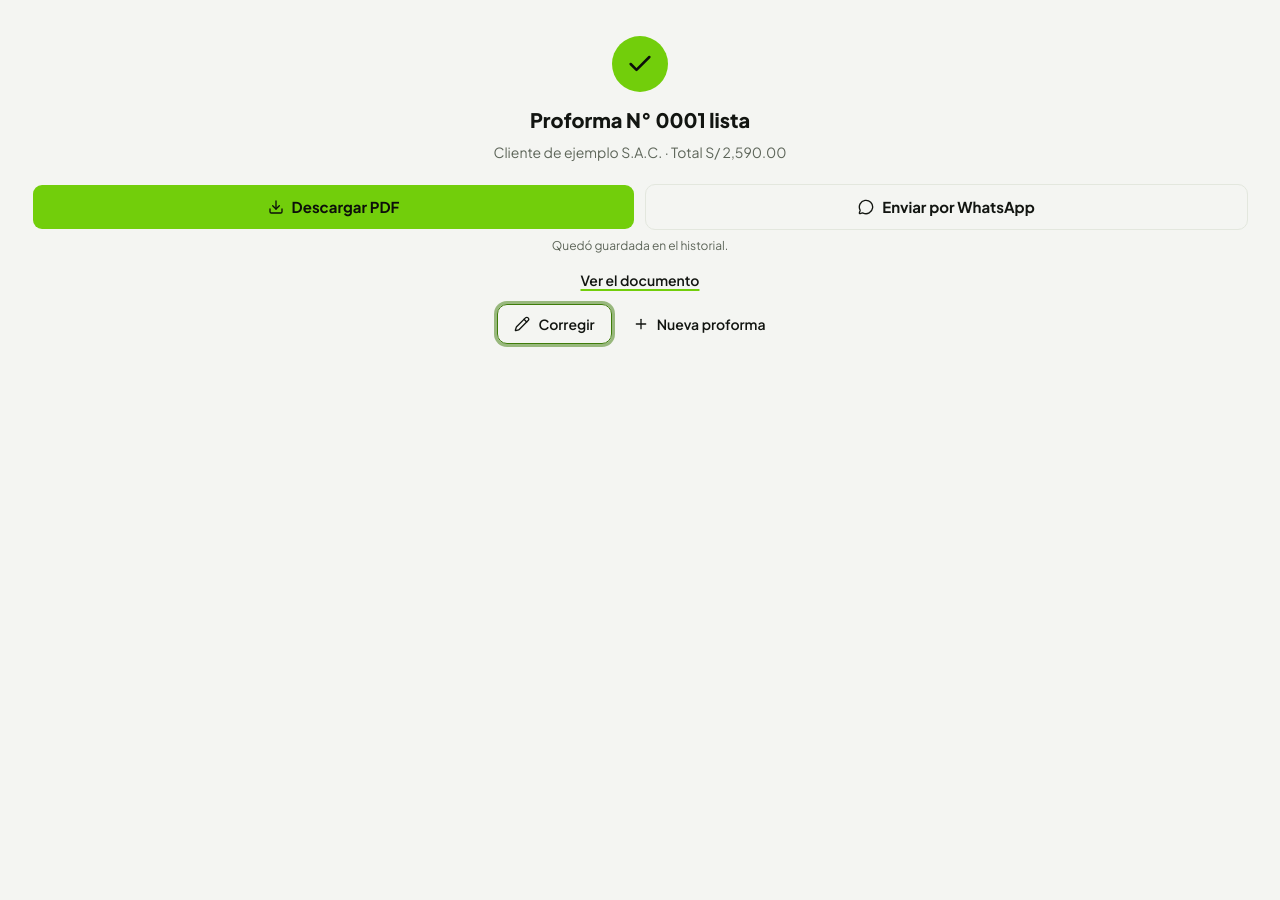
Test: ProformaReady › si el navegador bloquea WhatsApp, ofrece abrir el chat con un enlace
The width and height of the screenshot is (1280, 900).
Step 1. Click the button "Enviar por WhatsApp" → (946, 207), box [645,184,1248,230]
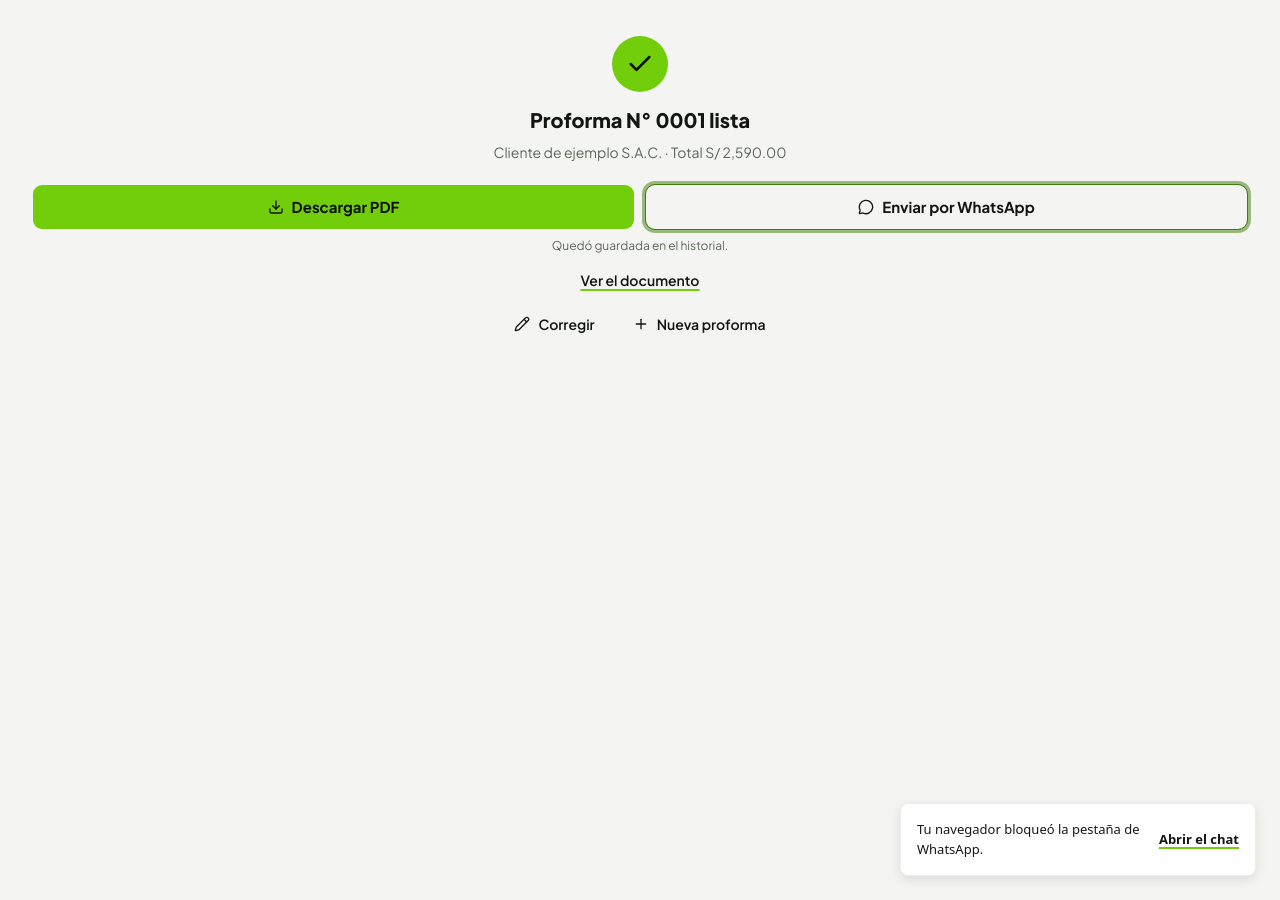
expect the text "Tu navegador bloqueó la pestaña de WhatsApp." is shown: met, box [917,820,1153,859]
